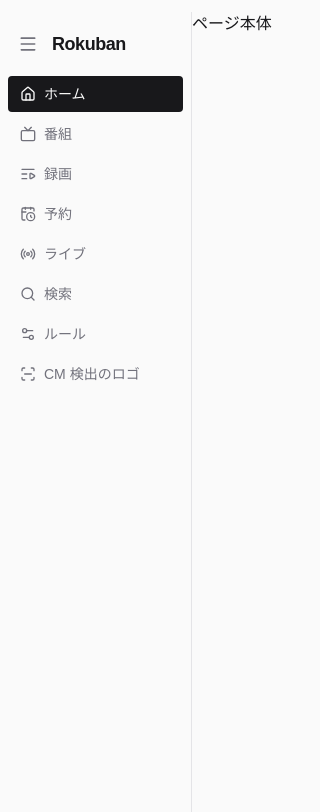
Test: AppShell / Sidebar の畳み込み › 畳んだ状態でもサイドバーの全項目が読み上げ名で引ける
Click the button named "ナビゲーションを畳む" at (28, 44), box [12, 28, 44, 60]
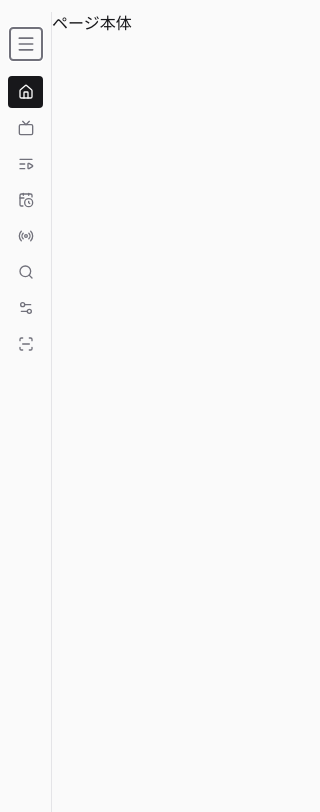
Now the button named "ナビゲーションを開く" is collapsed, box [10, 28, 42, 60]
Now the number of links named "ホーム" is 1, box [8, 76, 43, 108]
Now the number of links named "番組" is 1, box [8, 112, 43, 144]
